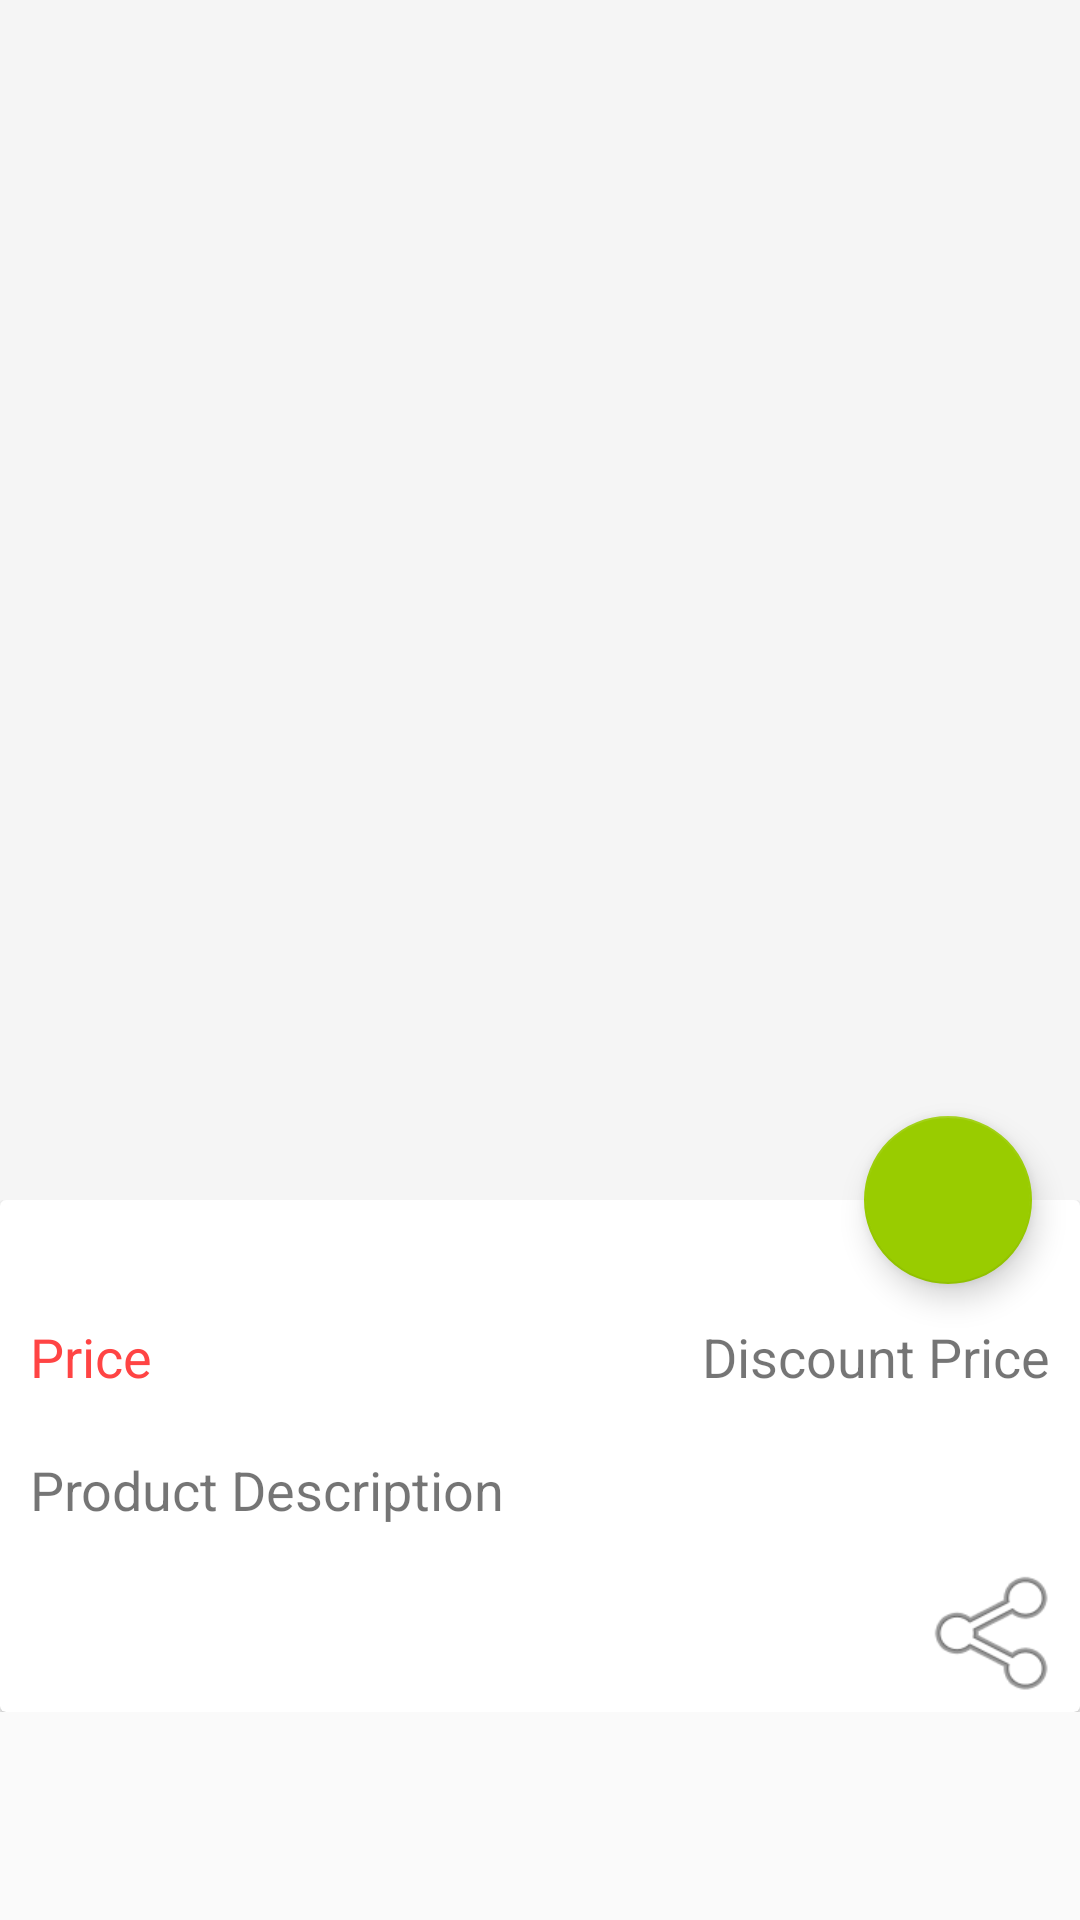

Where icons sit on this 1080×1920 app screen, as bbox=[x1, y1, x2, y2]:
share: bbox=[935, 1577, 1048, 1690]
